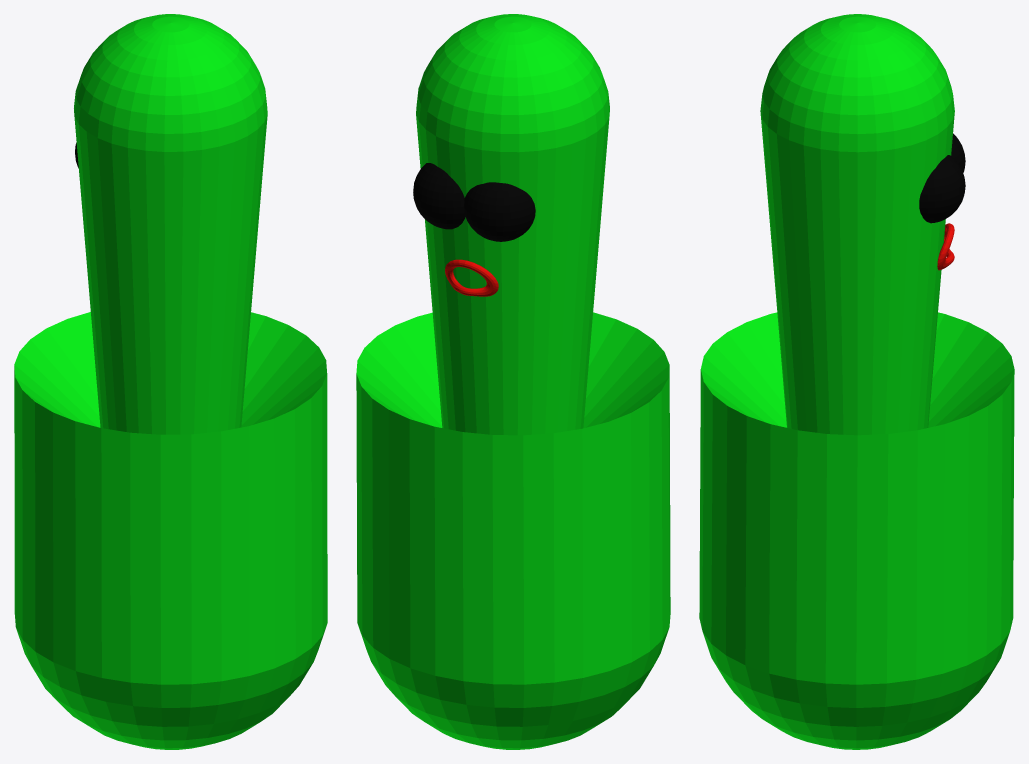
Rendered from enemy3.fbx.
3 views of the same model, side by side, from view 1: azimuth 30°, elevation 25°; view 2: azimuth 150°, elevation 25°; view 3: azimuth 270°, elevation 25° (orthographic).
Visible parts, largest first — view 1: Sphere; view 2: Sphere; view 3: Sphere.
Boxes of the visible parts, box(x1,y1,x2,y2) form: Sphere: box(14, 14, 327, 749); Sphere: box(356, 14, 670, 749); Sphere: box(699, 14, 1014, 749).
Size of the model in its own units: 196 by 491 by 197.
